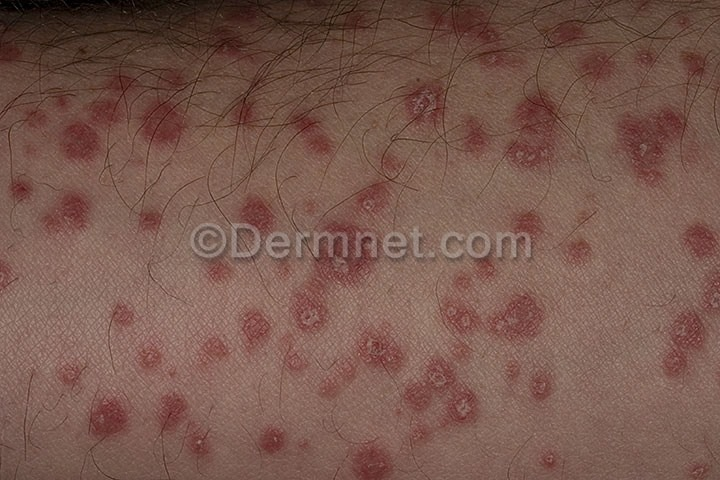Psoriasis: (220, 215, 574, 442), (366, 42, 707, 207), (21, 56, 286, 229), (24, 283, 207, 456), (645, 224, 720, 373)
